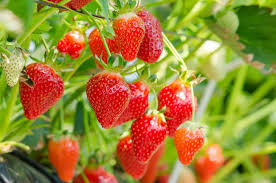ripe: (18, 56, 64, 122), (83, 70, 131, 129), (129, 111, 170, 164), (154, 79, 201, 124), (113, 79, 150, 133), (170, 119, 209, 166), (45, 131, 81, 181), (116, 130, 150, 182), (129, 17, 165, 65), (110, 17, 147, 62), (85, 23, 119, 71), (193, 140, 225, 181), (73, 161, 119, 182), (57, 30, 86, 53), (68, 43, 82, 62)
unripe: (4, 49, 24, 88)
